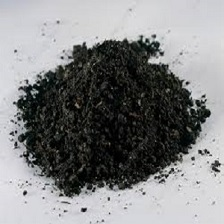loamy_soil: (22, 34, 208, 199)
